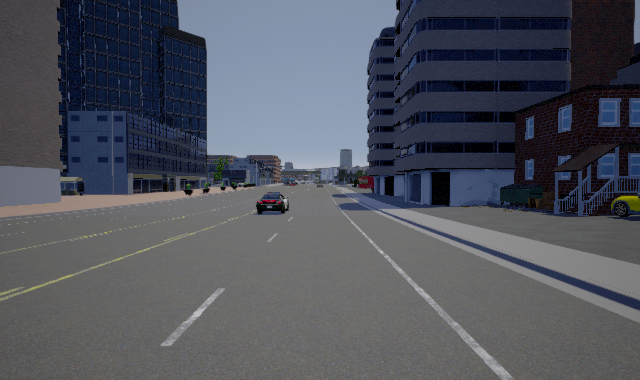vehicle: (256, 192, 289, 214), (611, 193, 640, 217)
